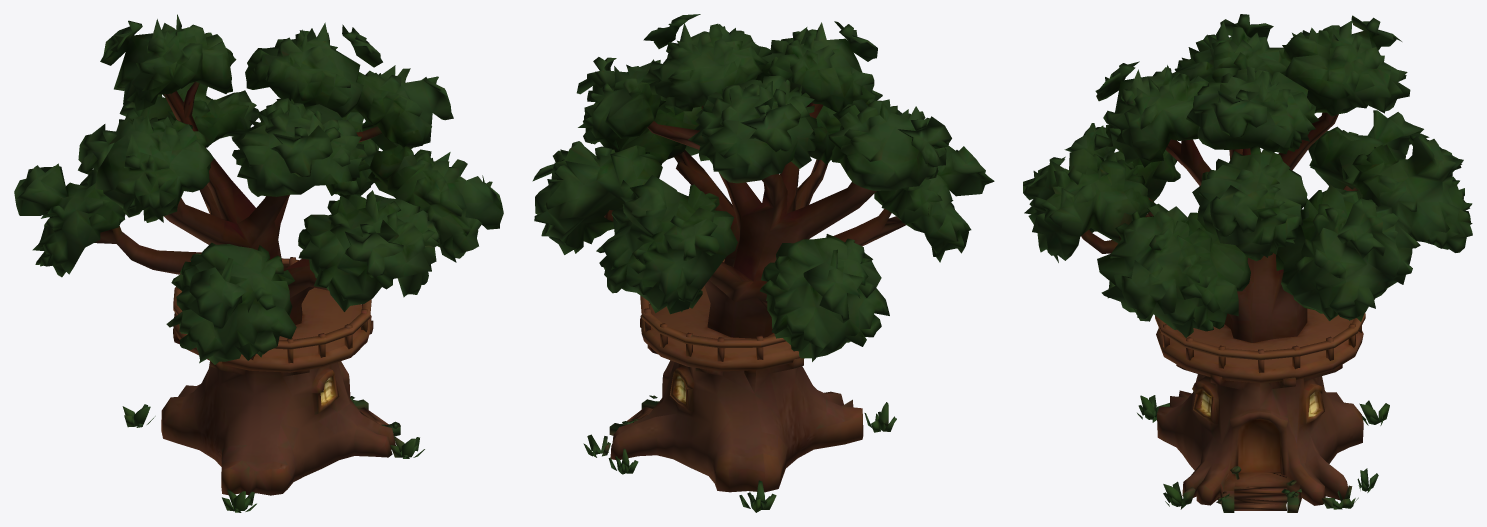
The model's file is giant-treehouse.glb.
3 views of the same model, side by side, from view 1: azimuth 30°, elevation 25°; view 2: azimuth 150°, elevation 25°; view 3: azimuth 270°, elevation 25° (orthographic).
Visible parts, largest first — view 1: tripo_node_6978beda-f416-4e87-8421-0e2ea90f90a5; view 2: tripo_node_6978beda-f416-4e87-8421-0e2ea90f90a5; view 3: tripo_node_6978beda-f416-4e87-8421-0e2ea90f90a5.
Boxes of the visible parts, x1,y1,x2,y2 form: tripo_node_6978beda-f416-4e87-8421-0e2ea90f90a5: [14, 14, 503, 512]; tripo_node_6978beda-f416-4e87-8421-0e2ea90f90a5: [532, 14, 994, 512]; tripo_node_6978beda-f416-4e87-8421-0e2ea90f90a5: [1023, 14, 1472, 512].
Bounding box in the file's own units: 0.9394 × 0.998 × 0.998.
Materials: 1 (1 with a texture image).
